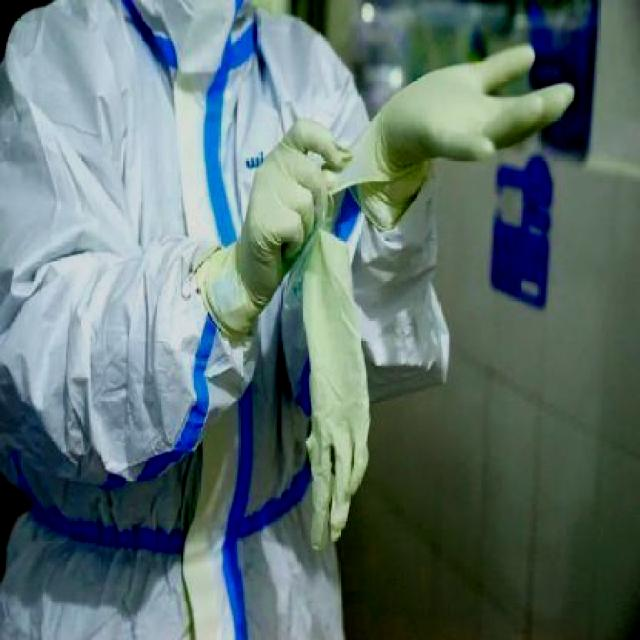hand_glove: (376, 43, 576, 179), (229, 115, 346, 292)
person: (0, 0, 442, 640)
